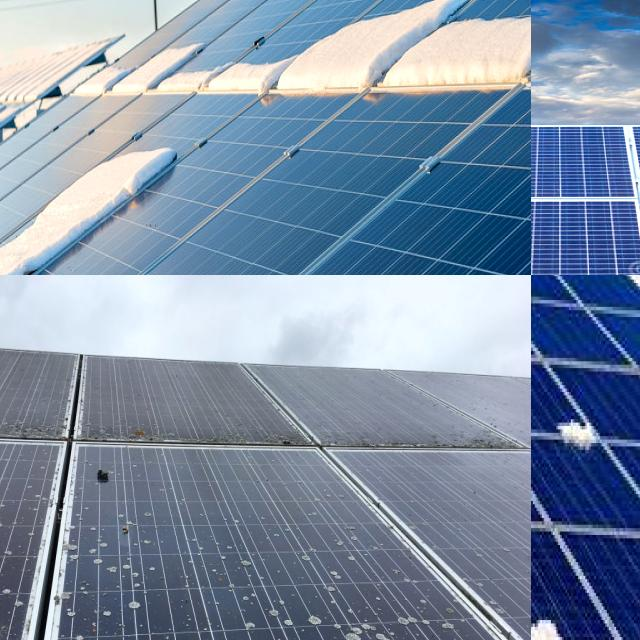bird: (74, 520, 150, 622), (340, 593, 456, 640), (0, 529, 40, 605), (214, 532, 252, 591), (82, 448, 124, 490), (462, 618, 523, 640), (304, 593, 332, 640)
crack: (531, 185, 640, 275), (531, 125, 640, 210), (531, 128, 621, 207)
panel: (297, 0, 531, 116), (26, 134, 190, 233), (0, 37, 111, 149), (140, 36, 274, 114), (531, 531, 579, 640), (531, 275, 640, 313), (553, 400, 606, 460), (531, 470, 576, 533), (531, 433, 558, 521), (531, 588, 572, 640), (531, 275, 577, 317), (0, 251, 50, 275), (531, 275, 549, 335)
